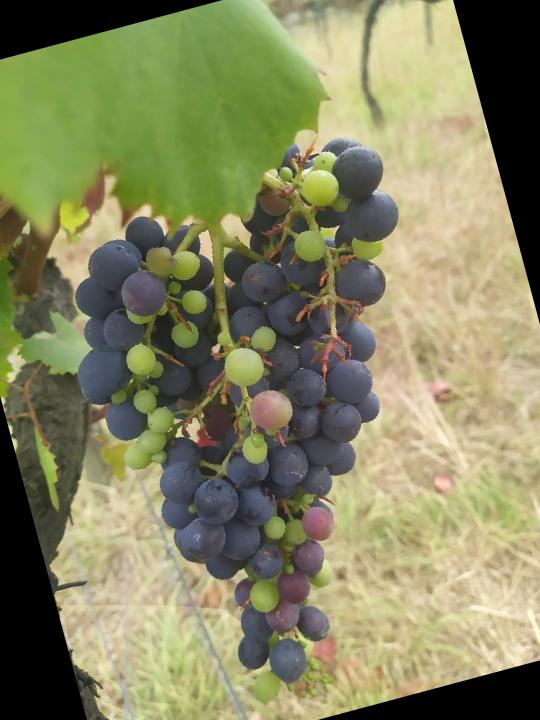grape: (27, 114, 517, 720)
